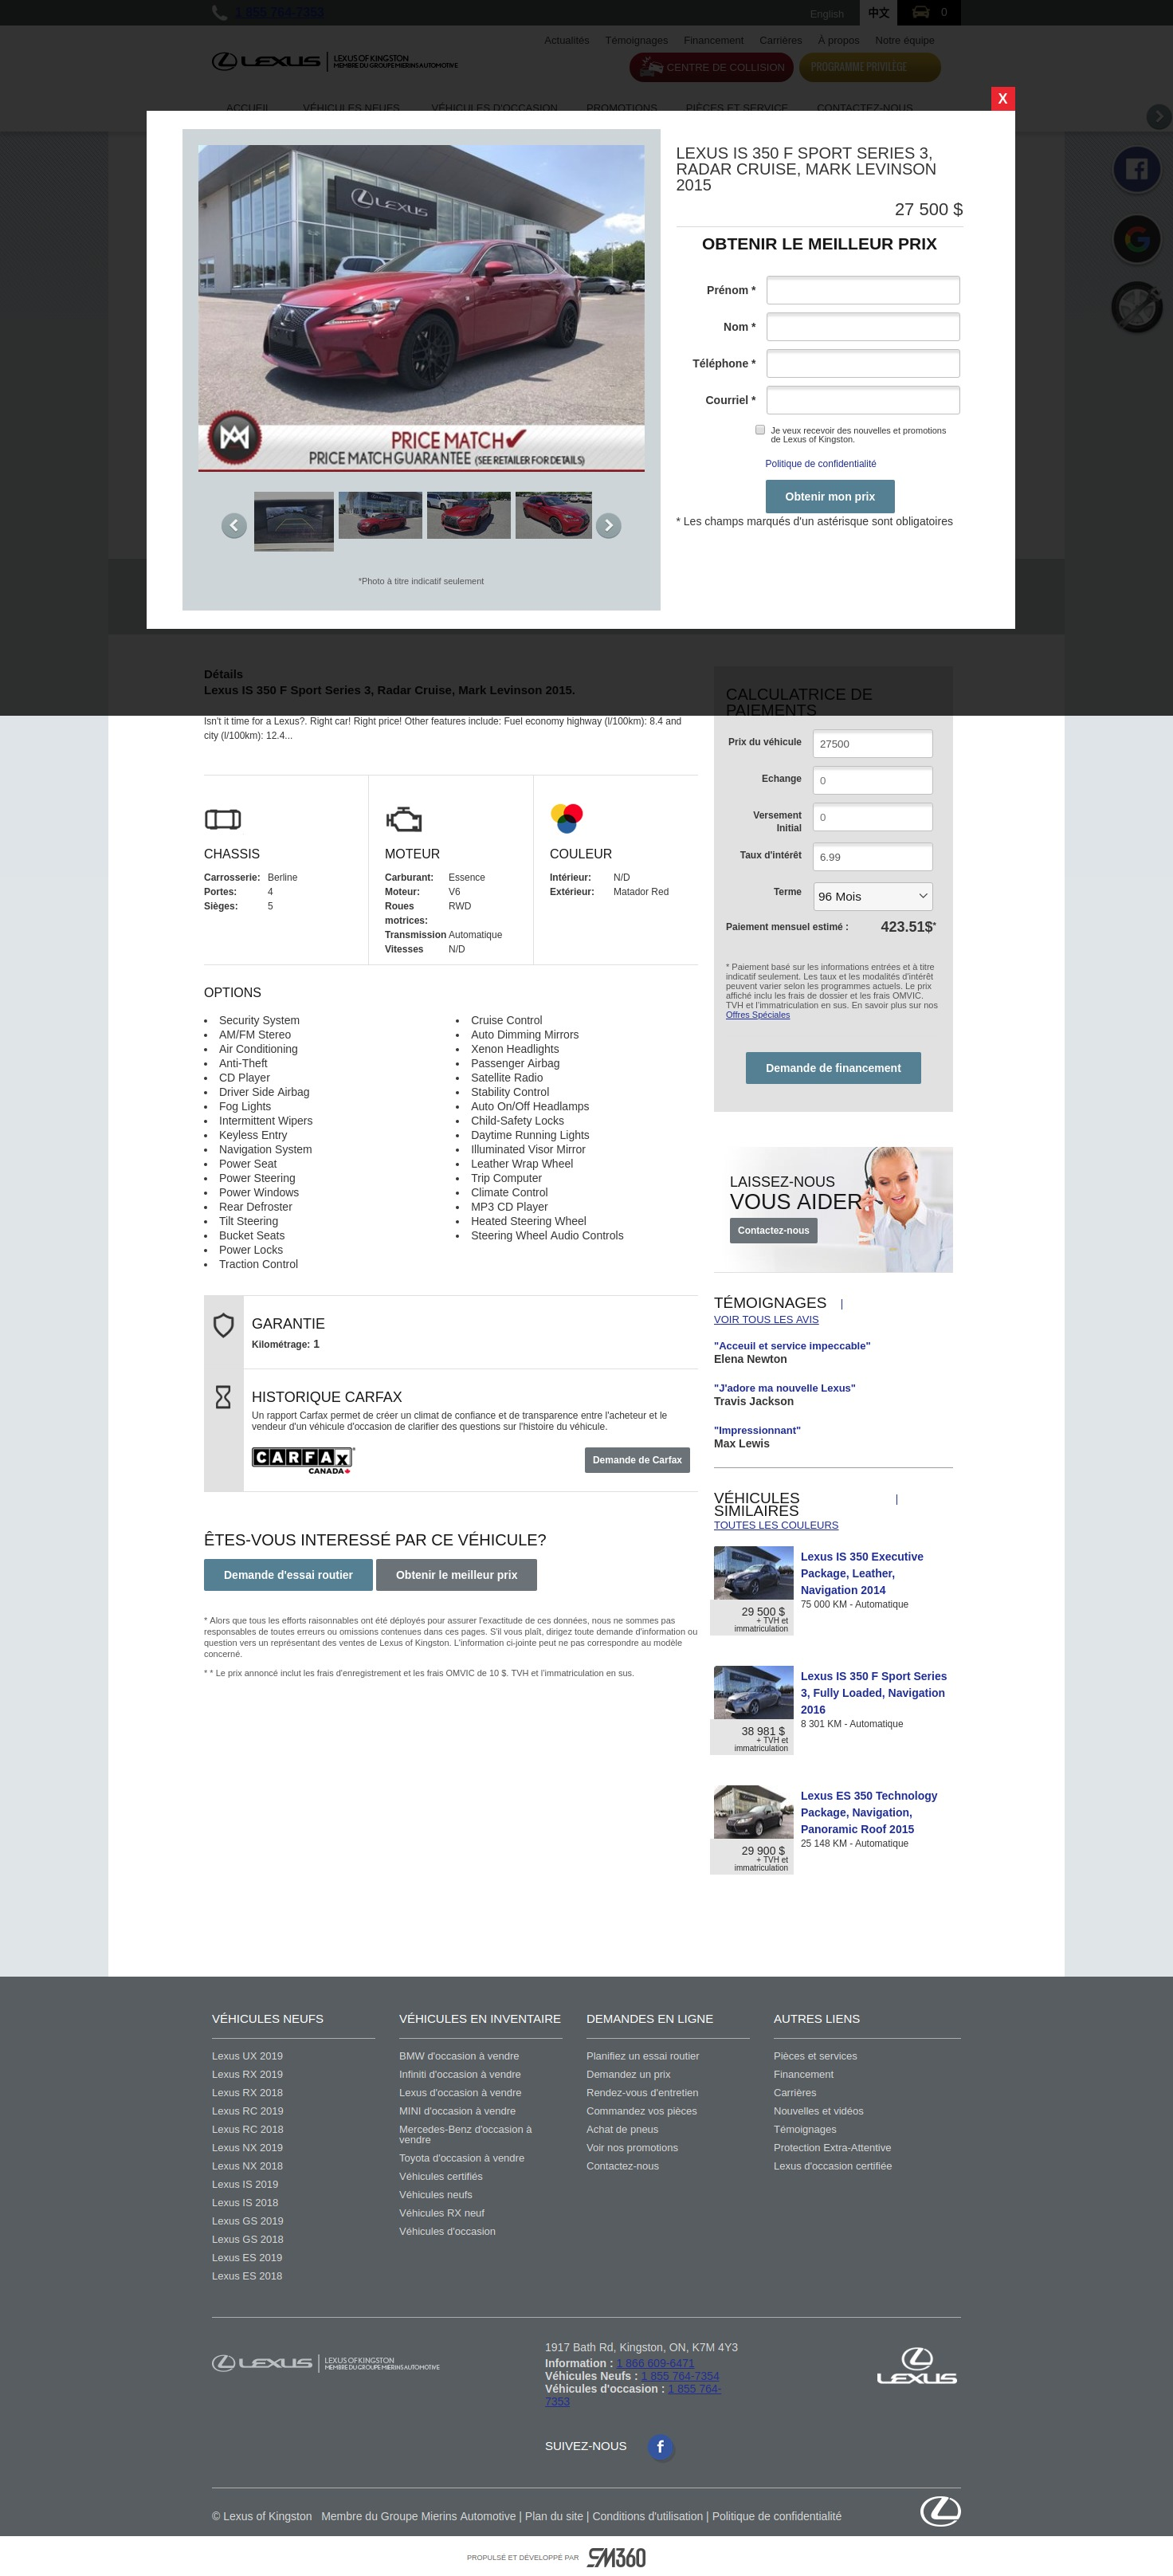car: (605, 519, 614, 534)
